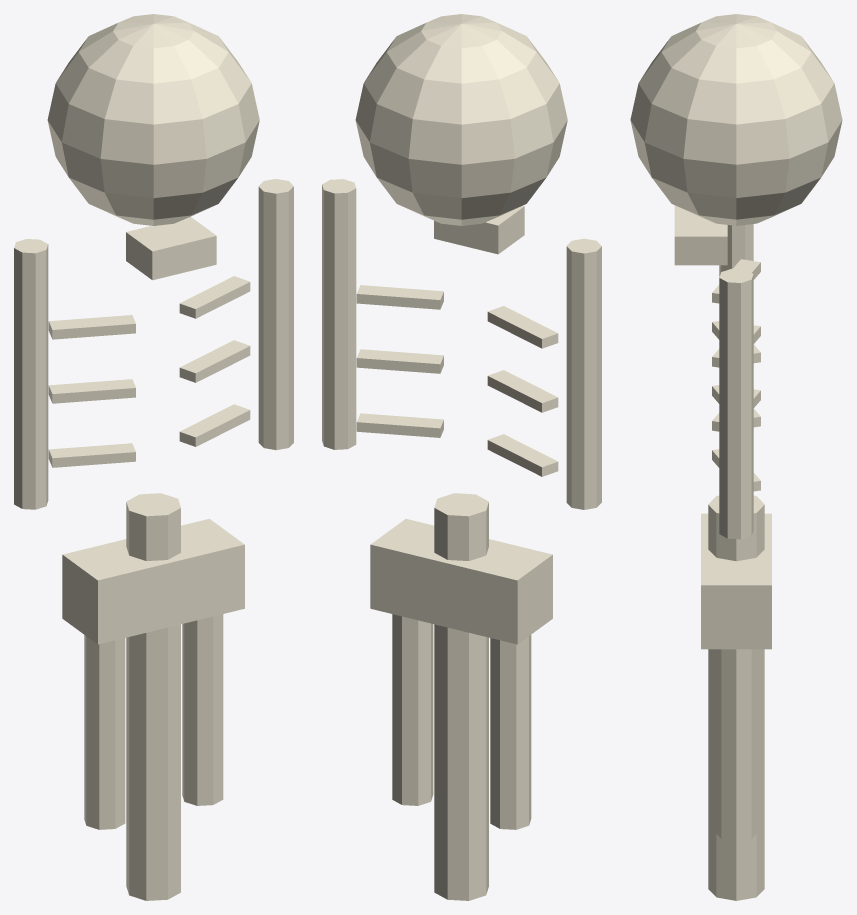
File: skeleton.glb
The picture shows the model from 3 angles, left to right: view 1: azimuth 30°, elevation 25°; view 2: azimuth 150°, elevation 25°; view 3: azimuth 270°, elevation 25°; orthographic projection.
Parts seen in each view (by area): view 1: Skull, Spine, Pelvis, Arm_R, Arm_L, Leg_L, Leg_R, Jaw, Rib_2_L, Rib_0_L, Rib_1_L, Rib_2_R (+2 smaller); view 2: Skull, Spine, Pelvis, Arm_L, Arm_R, Leg_L, Leg_R, Jaw, Rib_0_R, Rib_1_R, Rib_2_R, Rib_0_L (+2 smaller); view 3: Skull, Arm_R, Spine, Leg_R, Pelvis, Jaw, Arm_L.
Boxes of the visible parts, left/top/right/bottom form: Skull: left=47, top=14, right=259, bottom=225; Spine: left=126, top=493, right=180, bottom=900; Pelvis: left=62, top=518, right=244, bottom=644; Arm_R: left=258, top=179, right=293, bottom=450; Arm_L: left=14, top=239, right=48, bottom=509; Leg_L: left=84, top=635, right=125, bottom=829; Leg_R: left=182, top=614, right=223, bottom=805; Jaw: left=126, top=216, right=216, bottom=280; Rib_2_L: left=48, top=443, right=135, bottom=467; Rib_0_L: left=48, top=315, right=135, bottom=339; Rib_1_L: left=48, top=379, right=135, bottom=403; Rib_2_R: left=179, top=404, right=250, bottom=446; Skull: left=355, top=14, right=567, bottom=225; Spine: left=434, top=493, right=488, bottom=900; Pelvis: left=370, top=519, right=552, bottom=644; Arm_L: left=566, top=238, right=601, bottom=509; Arm_R: left=322, top=179, right=356, bottom=449; Leg_L: left=490, top=635, right=531, bottom=829; Leg_R: left=392, top=614, right=433, bottom=805; Jaw: left=434, top=205, right=524, bottom=254; Rib_0_R: left=356, top=285, right=443, bottom=309; Rib_1_R: left=356, top=349, right=443, bottom=373; Rib_2_R: left=356, top=413, right=443, bottom=437; Rib_0_L: left=487, top=306, right=558, bottom=348; Skull: left=630, top=14, right=842, bottom=225; Arm_R: left=719, top=268, right=753, bottom=539; Spine: left=708, top=495, right=764, bottom=900; Leg_R: left=715, top=649, right=757, bottom=841; Pelvis: left=701, top=513, right=771, bottom=649; Jaw: left=674, top=205, right=727, bottom=265; Arm_L: left=719, top=224, right=753, bottom=277.
Size of the model in its own units: 0.4483 by 1.35 by 0.3.
